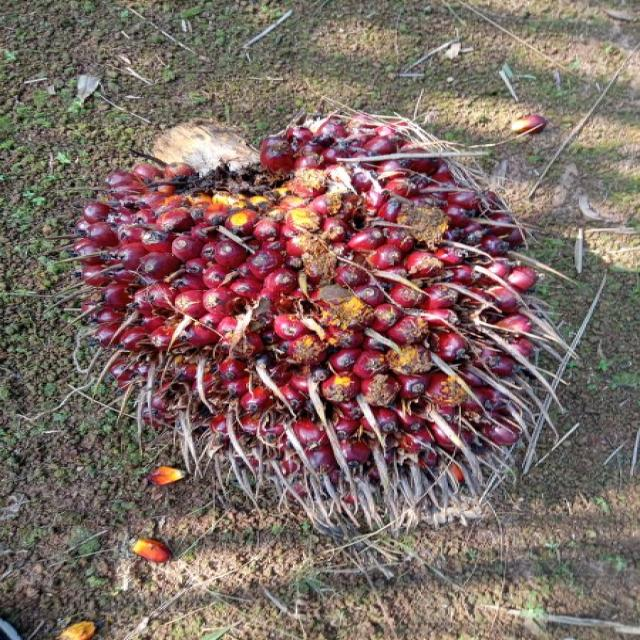fraksi 1: (28, 64, 606, 564)
